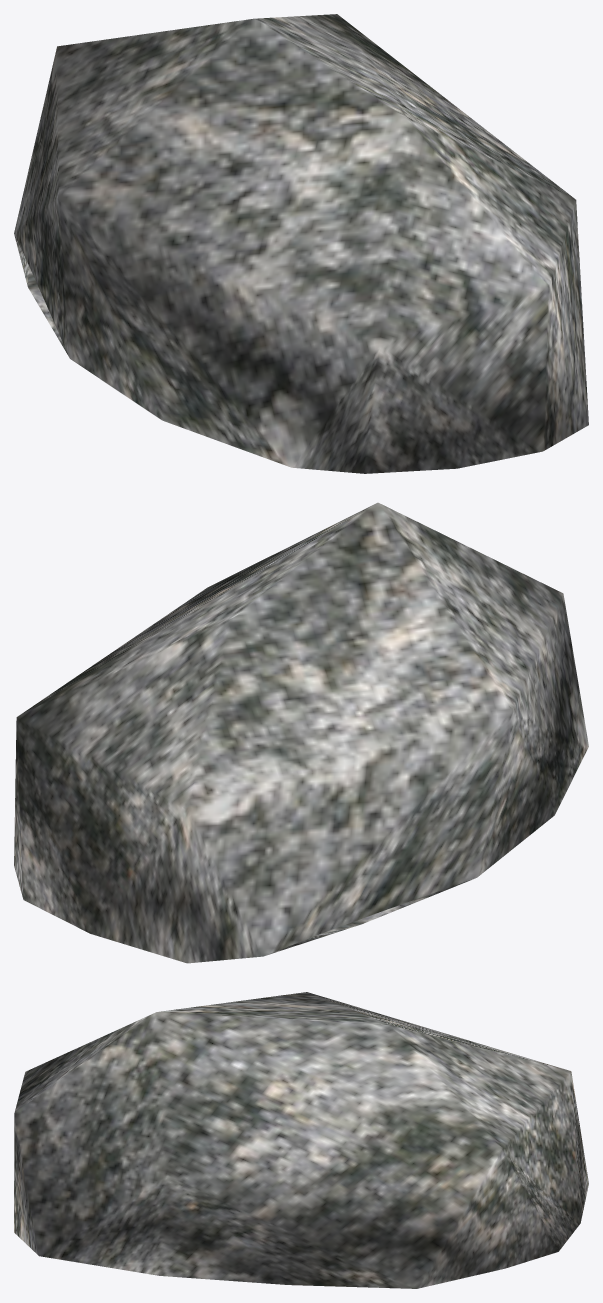
Rendered from stone9_tex2.fbx.
3 views of the same model, one above another, from view 1: azimuth 30°, elevation 25°; view 2: azimuth 150°, elevation 25°; view 3: azimuth 270°, elevation 25° (orthographic). The views are drawn at different scales.
Parts seen in each view (by area): view 1: stone9_tex2Object; view 2: stone9_tex2Object; view 3: stone9_tex2Object.
Part boxes in pixels (<box>): stone9_tex2Object: <box>14,14,588,473</box>; stone9_tex2Object: <box>14,502,588,963</box>; stone9_tex2Object: <box>14,992,588,1288</box>.
Size of the model in its own units: 0.3704 by 0.214 by 0.5419.
1 material, 1 textured.
